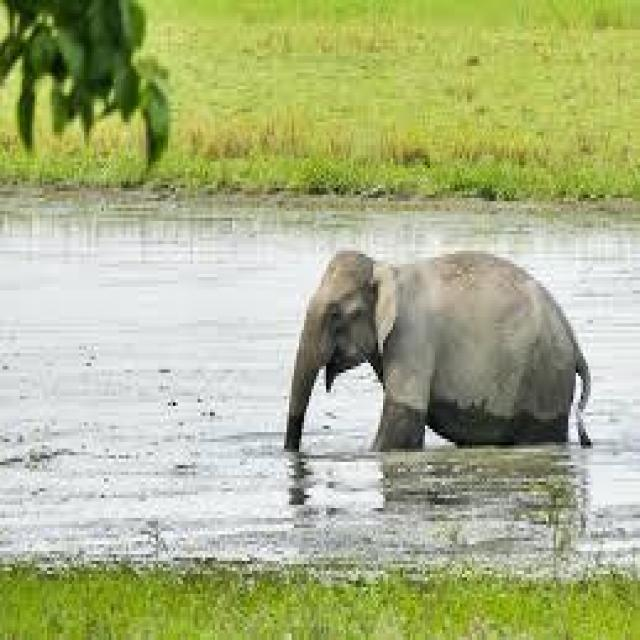Elephant: (284, 247, 591, 448)
